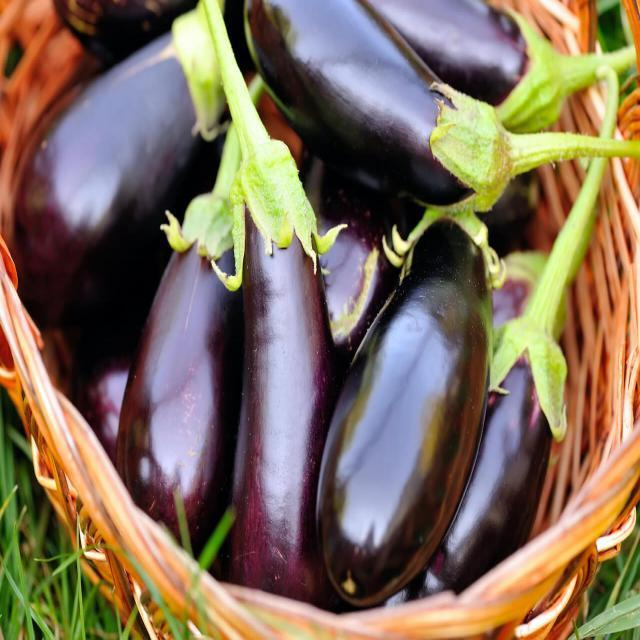eggplant: (234, 0, 628, 210), (306, 242, 522, 606), (221, 105, 351, 605)
